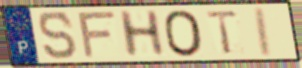F: (76, 9, 119, 60)
H: (116, 9, 168, 60)
I: (255, 6, 275, 58)
O: (162, 8, 206, 58)
S: (37, 10, 80, 61)
T: (205, 9, 240, 56)
